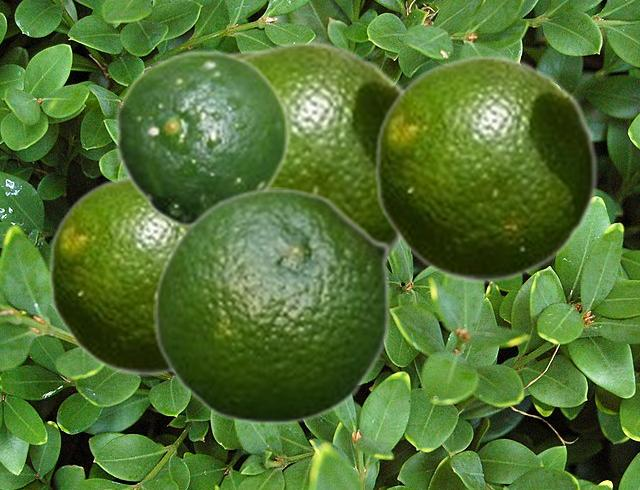calamansi: (153, 187, 391, 425), (373, 54, 598, 282), (237, 40, 406, 259), (114, 49, 290, 228), (47, 172, 182, 375)
